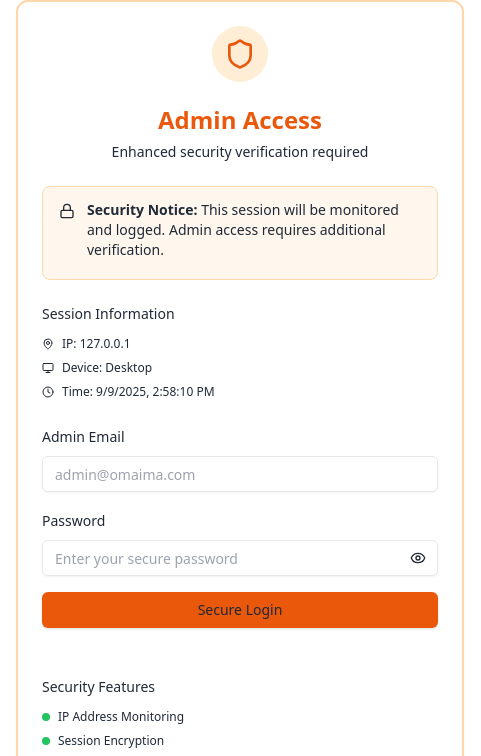
it: AdminLoginForm Component › should display an error message for failed login
In the field labelled "Admin Email": point(240, 474) [42,456,438,492], type "admin@example.com"
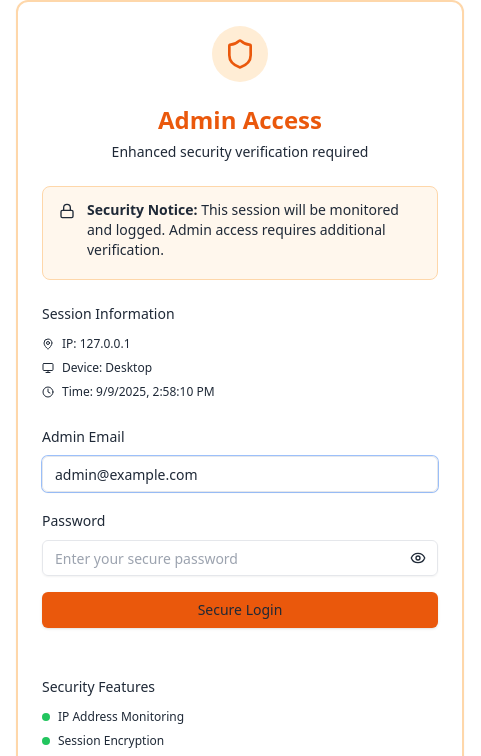
In the password field labelled "Password": point(240, 558) [42,540,438,576], type "wrongpassword"
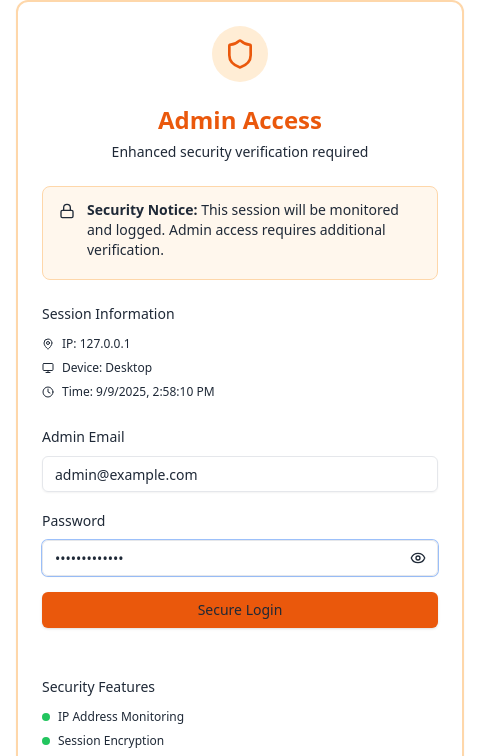
Click the button "Secure Login": point(240, 610) [42,592,438,628]
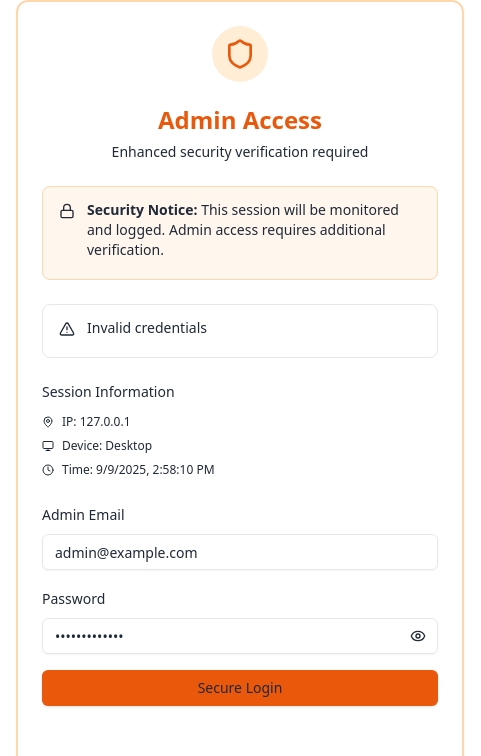
Result: the text "Invalid credentials" is shown at [87,318,207,337]
